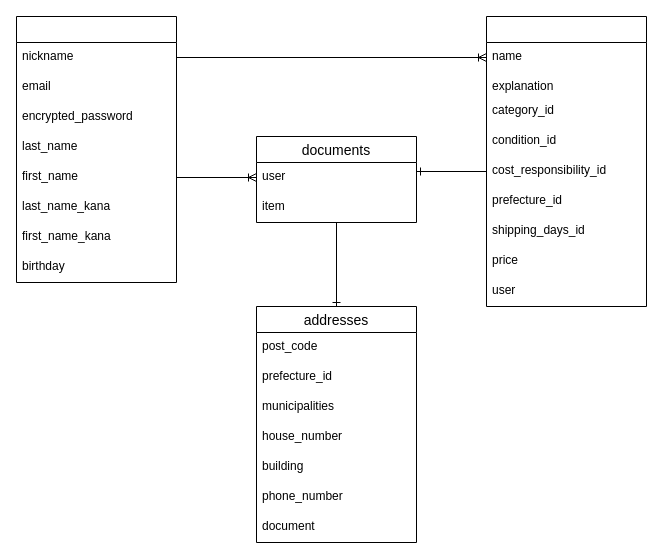
Some shapes in this 663 by 559 pixel diagram are drawn without their labels. The shapes that lost their labels are listed below. From the top down, each one's box as (x1, y1, x2, y2) in pixels, then its label:
(16, 16, 176, 282): users
(486, 16, 646, 306): items
